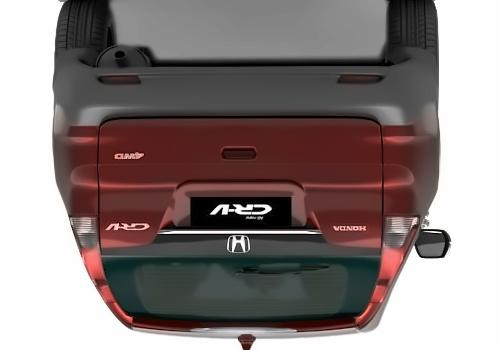Car boot: (94, 111, 388, 333)
Rear bumper: (49, 44, 444, 139)
Rear light - -L-: (379, 207, 422, 253)
Rear light - -R-: (59, 206, 102, 256)
Side mirror - -L-: (412, 225, 454, 267)
